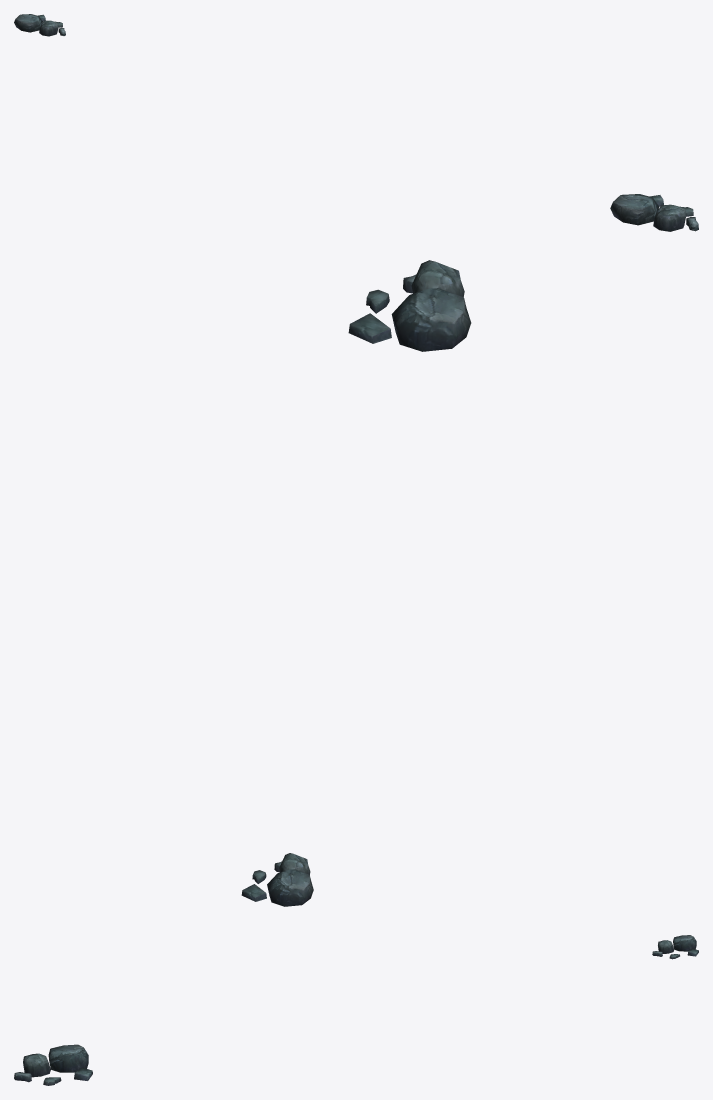
Rendered from Area_13_69.fbx.
3 views of the same model, one above another, from view 1: azimuth 30°, elevation 25°; view 2: azimuth 150°, elevation 25°; view 3: azimuth 270°, elevation 25° (orthographic). The views are drawn at different scales.
Visible parts, largest first — view 1: Area_13_69; view 2: Area_13_69; view 3: Area_13_69.
Boxes of the visible parts, bbox=[...] form: Area_13_69: bbox=[14, 14, 698, 231]; Area_13_69: bbox=[241, 260, 471, 906]; Area_13_69: bbox=[14, 935, 698, 1085].
Bounding box in the file's own units: 1366 × 80.6 × 2798.
